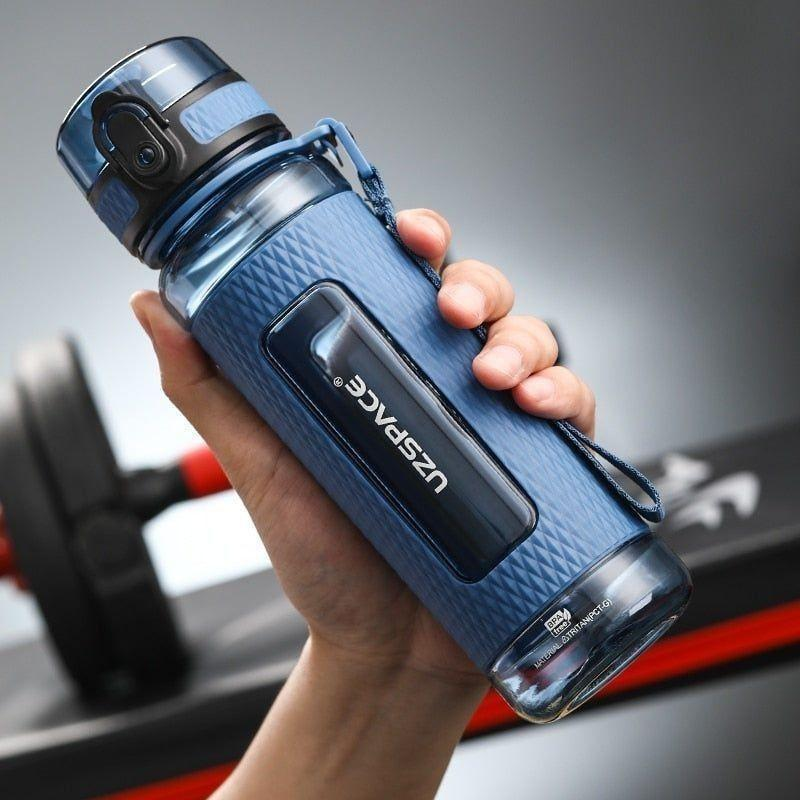gym bottle: (52, 32, 692, 725)
